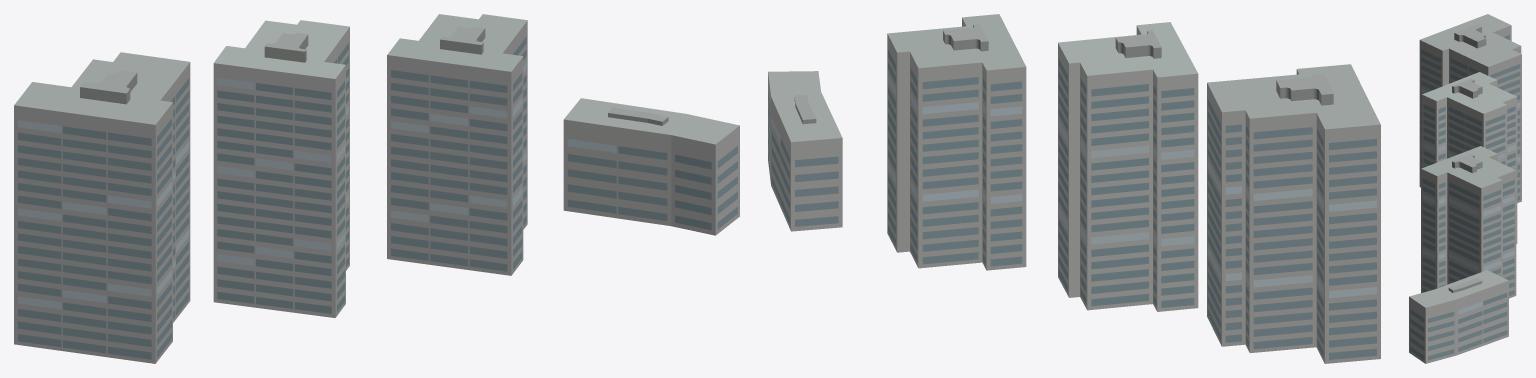
The model's file is apt-a10026946.glb.
3 views of the same model, side by side, from view 1: azimuth 30°, elevation 25°; view 2: azimuth 150°, elevation 25°; view 3: azimuth 270°, elevation 25° (orthographic). The views are drawn at different scales.
Visible parts, largest first — view 1: apt-a10026946; view 2: apt-a10026946; view 3: apt-a10026946.
Boxes of the visible parts, bbox=[...] form: apt-a10026946: bbox=[14, 14, 739, 363]; apt-a10026946: bbox=[768, 14, 1380, 363]; apt-a10026946: bbox=[1409, 14, 1521, 363].
Size of the model in its own units: 155 by 55 by 36.6.
